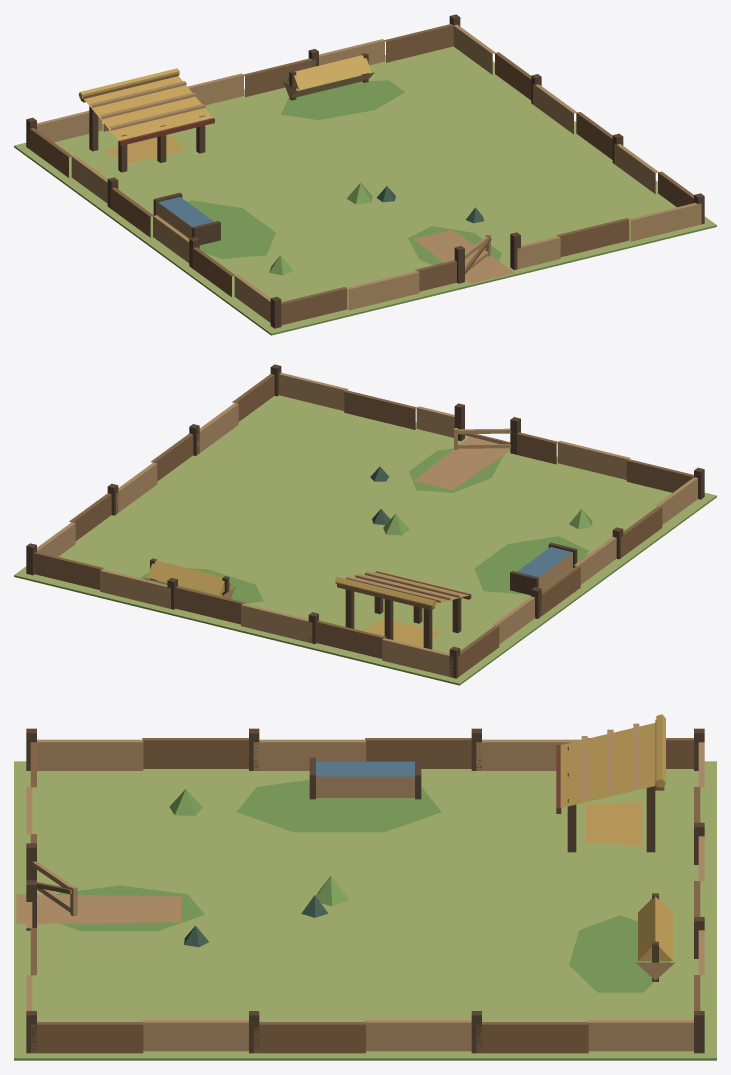
The model's file is pasture.glb.
The picture shows the model from 3 angles, top to bottom: view 1: azimuth 30°, elevation 25°; view 2: azimuth 150°, elevation 25°; view 3: azimuth 270°, elevation 25°; orthographic projection. The views are drawn at different scales.
Visible parts, largest first — view 1: pasture; view 2: pasture; view 3: pasture.
Part boxes in pixels (x1,y1,x2,y2): pasture: [14, 14, 716, 335]; pasture: [14, 364, 716, 685]; pasture: [14, 714, 716, 1060].
Bounding box in the file's own units: 16 × 2.01 × 16.
Materials: 1 (1 with a texture image).
